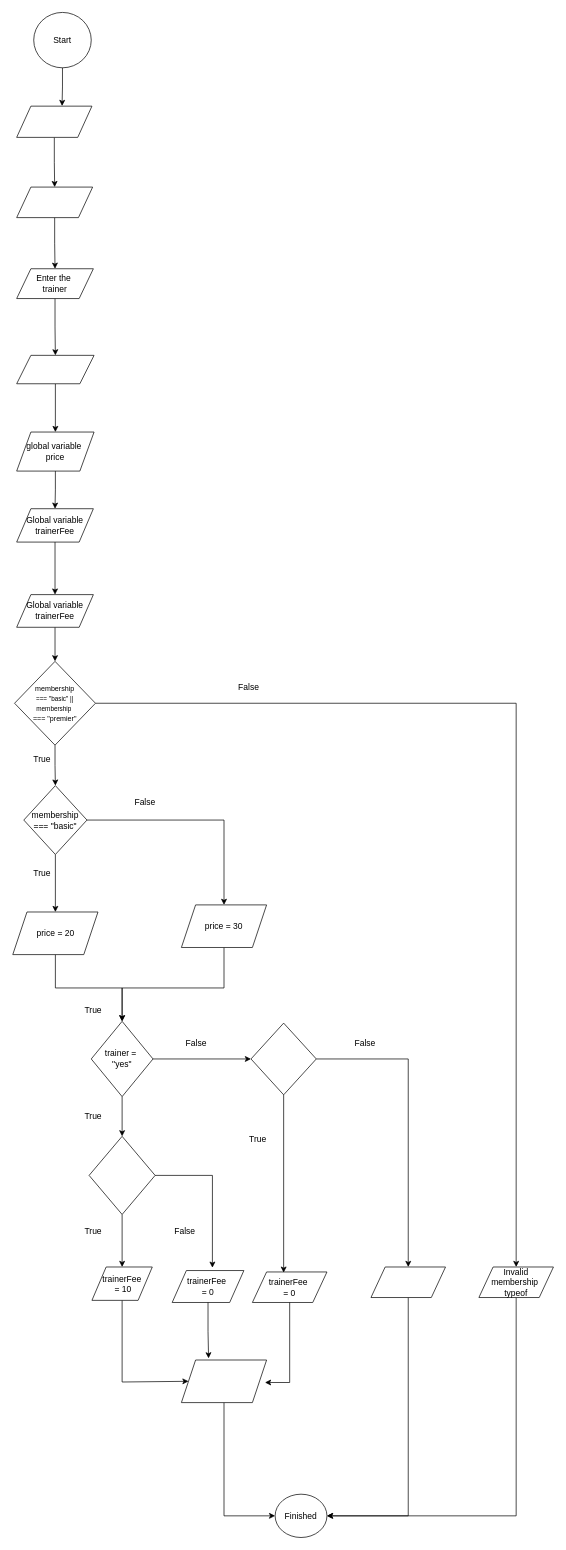
Image size: 566x1550. Some labels were removed from this diagram. The centre of each missing label's shape, as x and y in pixels:
Enter the membership: the point at 54,121
Invalid trainer input: the point at 408,1282
membership = "basic": the point at 121,1175
Storage of membership in variable: the point at 54,202
Storage of trainer in variable: the point at 55,369
totalCost = price + trainerFee: the point at 224,1381
trainer = "no": the point at 283,1058
